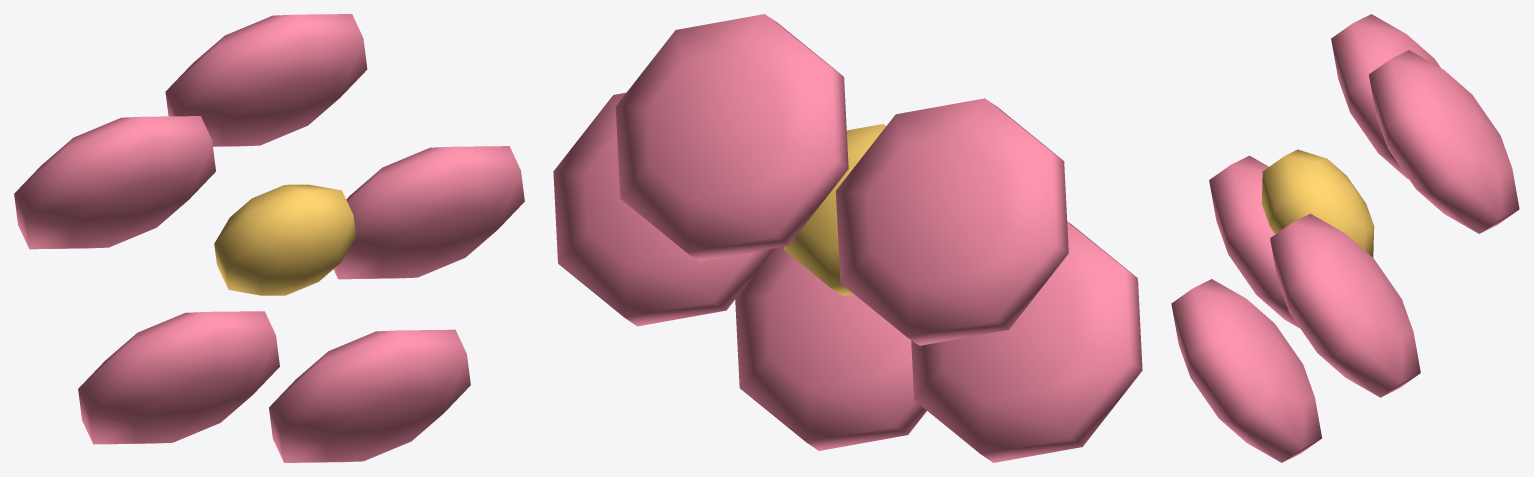
The model's file is flower.glb.
3 views of the same model, side by side, from view 1: azimuth 30°, elevation 25°; view 2: azimuth 150°, elevation 25°; view 3: azimuth 270°, elevation 25° (orthographic). The views are drawn at different scales.
Visible parts, largest first — view 1: flower_petal0; view 2: flower_petal0; view 3: flower_petal0.
Part boxes in pixels (<box>): flower_petal0: <box>14,14,524,462</box>; flower_petal0: <box>553,14,1142,462</box>; flower_petal0: <box>1171,14,1519,462</box>.
Size of the model in its own units: 0.1772 by 0.1497 by 0.1198.
